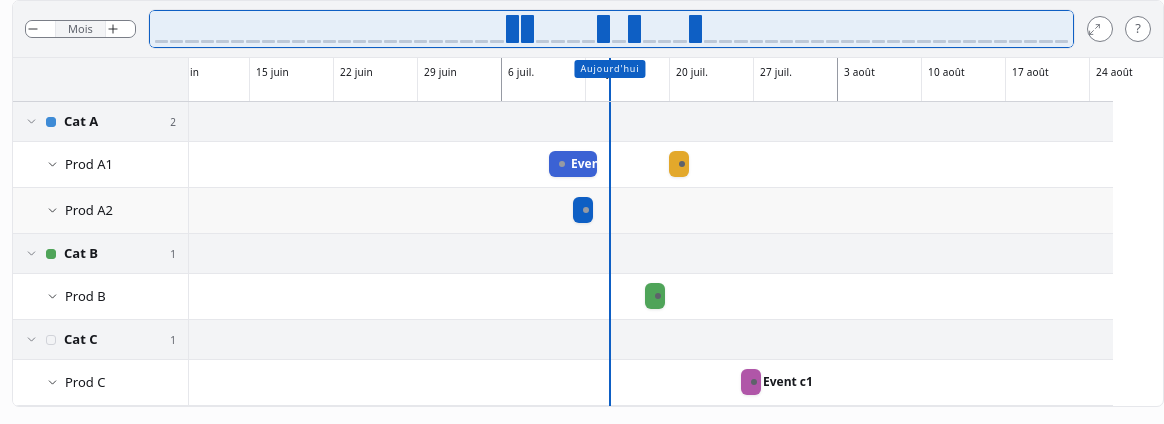
it: #601 — en-tête de catégorie (frise desktop) › déplié : aucun résumé ; replié : un trait par événement de la catégorie, tous produits
Click the button with test id "timeline-group-head" showing "Cat A 2".
click(101, 122)  # box [13,102,1113,142]
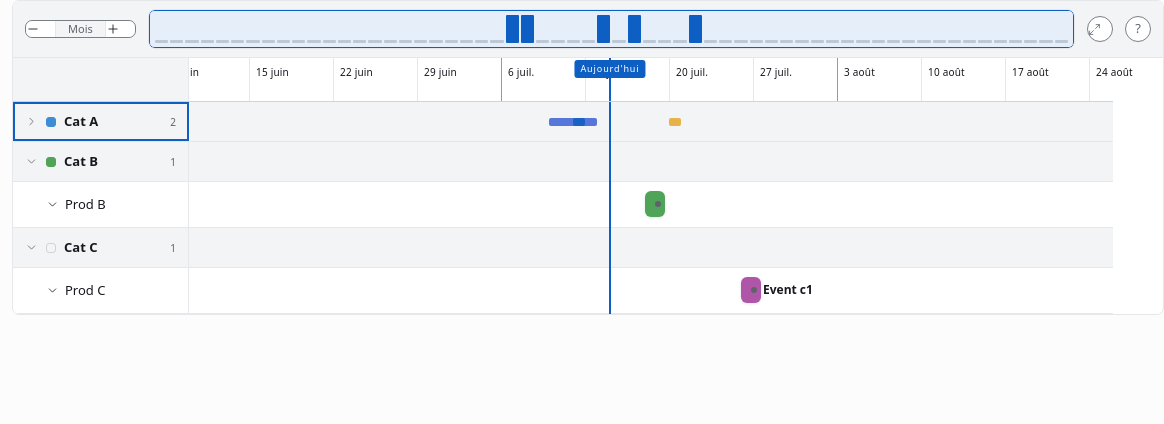
Note: Redéplier retire le résumé et remonte les lanes.
Click the button with test id "timeline-group-head" showing "Cat A 2".
click(563, 122)  # box [13,102,1113,142]
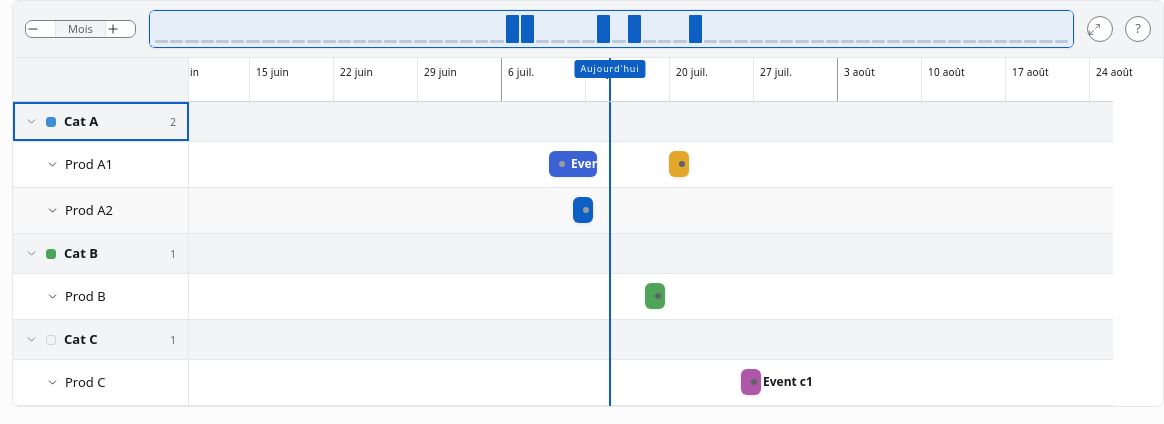
Now the element with test id "timeline-group-summary" is gone
Now the elements with test id "timeline-resource-title" read "Prod A1", "Prod A2", "Prod B", "Prod C", in this order, box [65,155,113,173]; [65,201,113,219]; [65,287,106,305]; [65,373,105,391]
